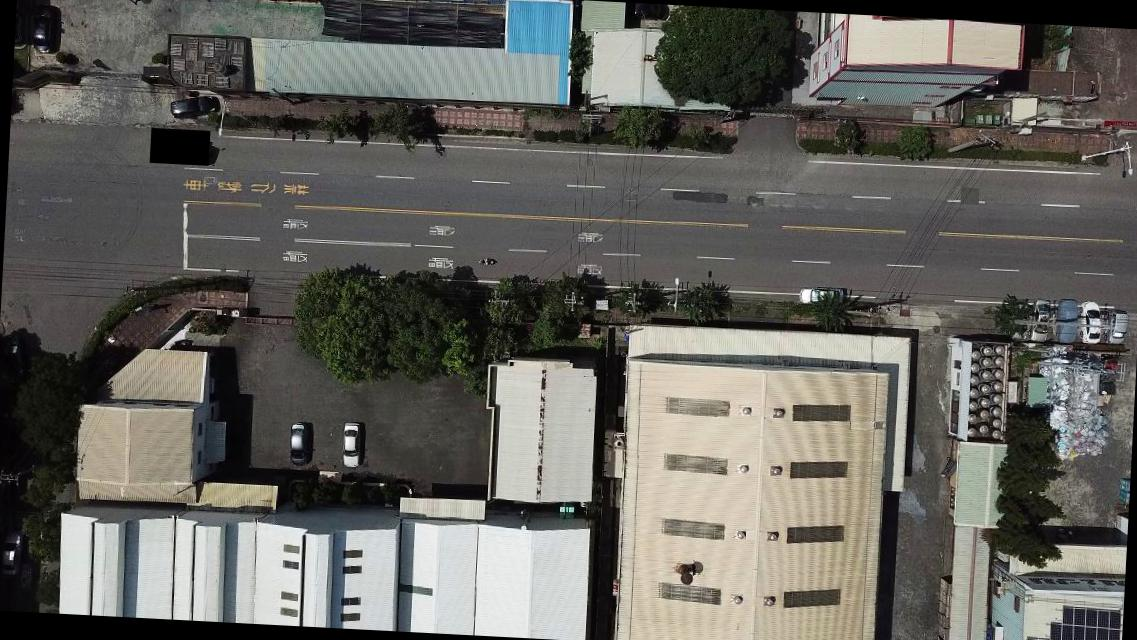vehicle: (167, 95, 216, 121), (1076, 298, 1102, 346), (29, 8, 54, 56), (0, 528, 25, 576), (337, 422, 360, 470), (799, 286, 847, 308), (1030, 301, 1050, 346), (289, 424, 309, 468), (1013, 304, 1034, 342), (1107, 312, 1128, 348)
